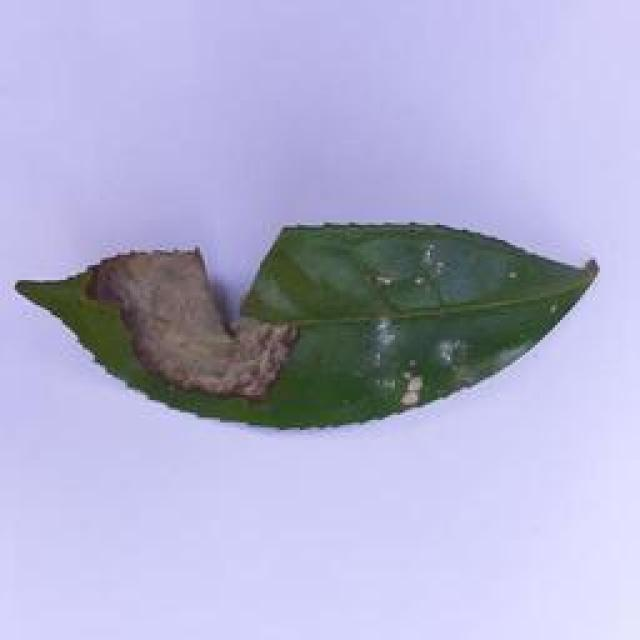Gray Blight: (6, 215, 609, 438)
